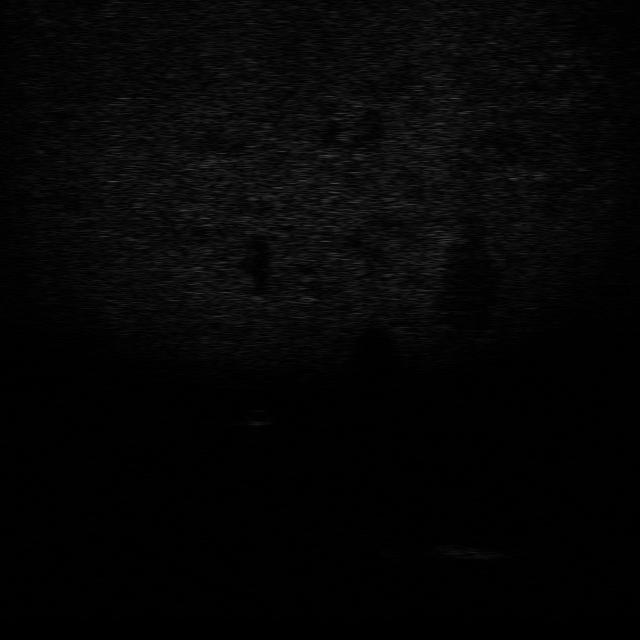ball: (240, 406, 272, 430)
metal bucket: (426, 538, 514, 566)
tyre: (348, 520, 412, 562)
